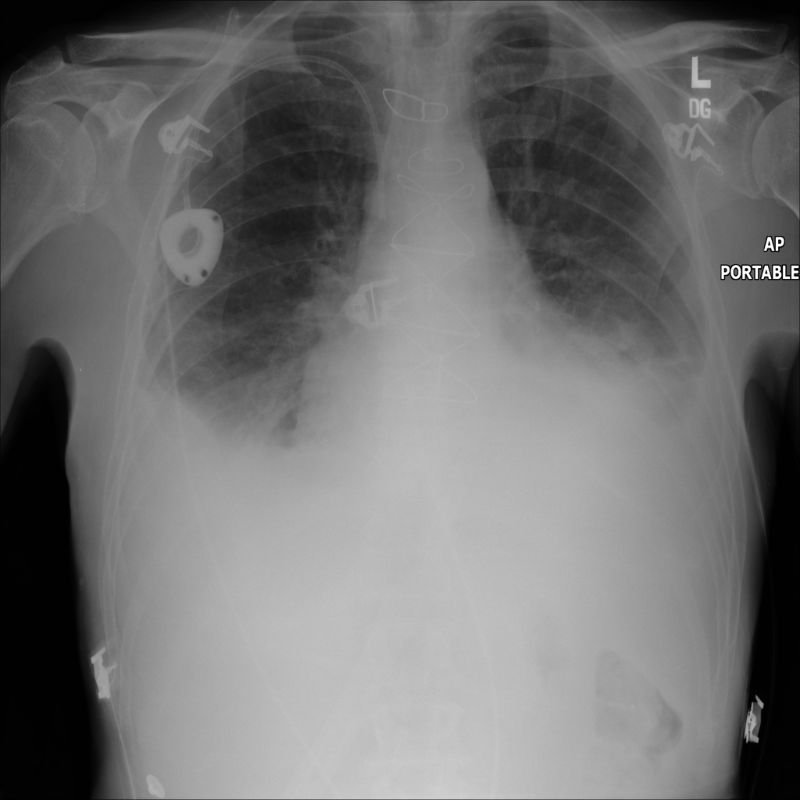PLEURAL EFFUSION: (115, 369, 311, 549), (628, 322, 733, 492)
